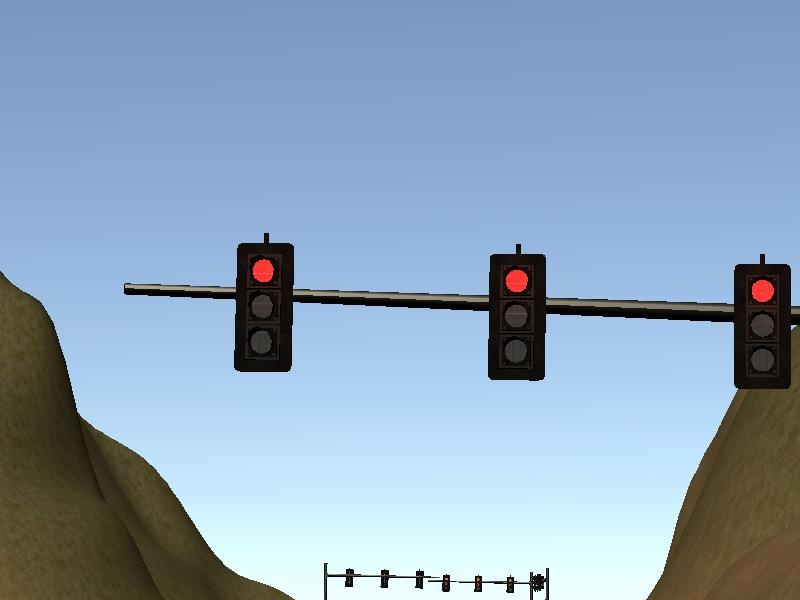RED: (234, 243, 294, 370), (488, 254, 548, 381), (731, 264, 791, 391)
